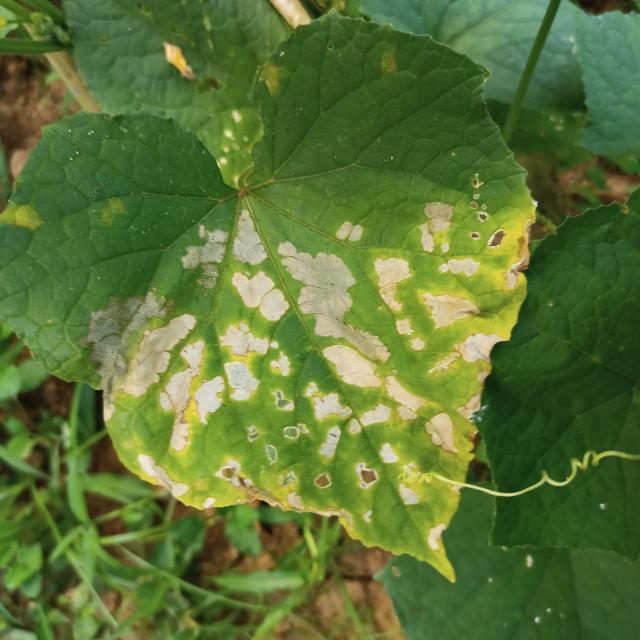disease_cucumber: (87, 210, 550, 544), (0, 192, 55, 242)
